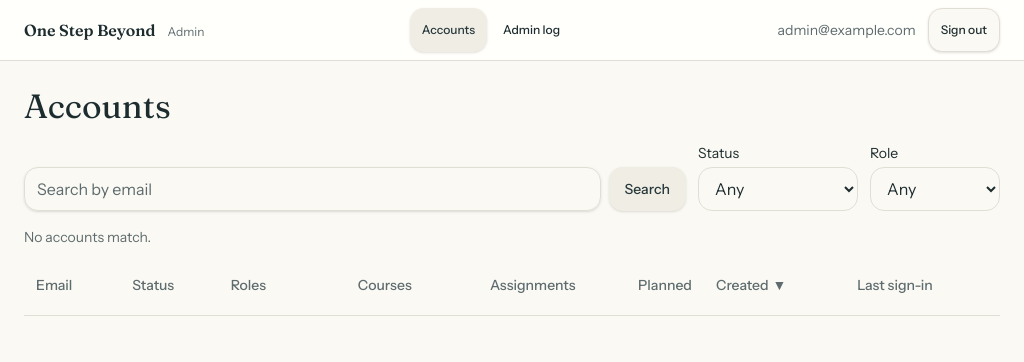
Scenario: AdminApp (admin-account-management-v0.1.md, A2) › the Admin log view (admin-action-log-v0.1.md, L1 and G3) › the header navigation marks the current view
Click the button "Admin log" at coordinates (532, 30), box 491,8 -> 572,52
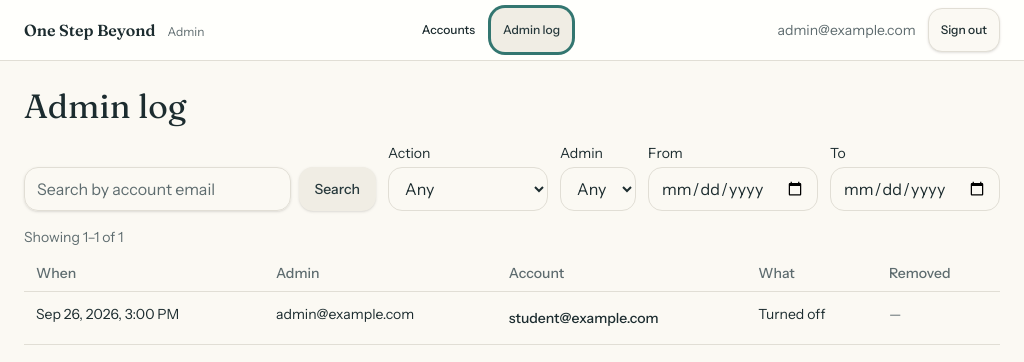
Result: the heading "Admin log" is shown at 24,85 -> 186,127
